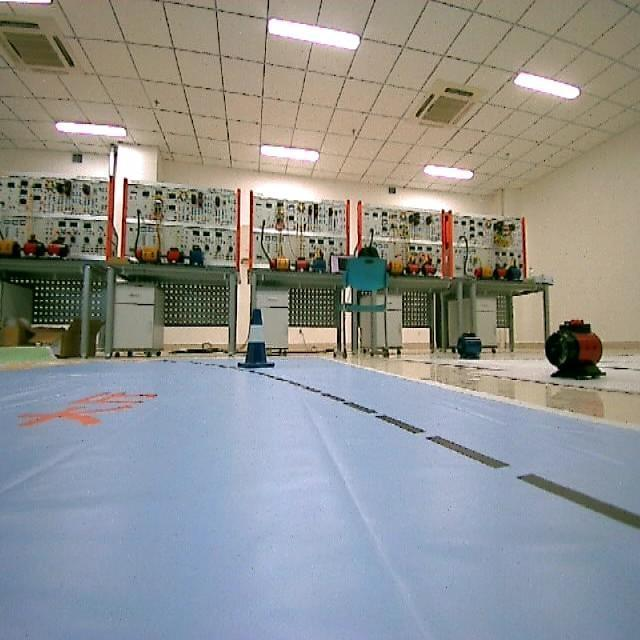obstacle: (238, 307, 280, 377)
